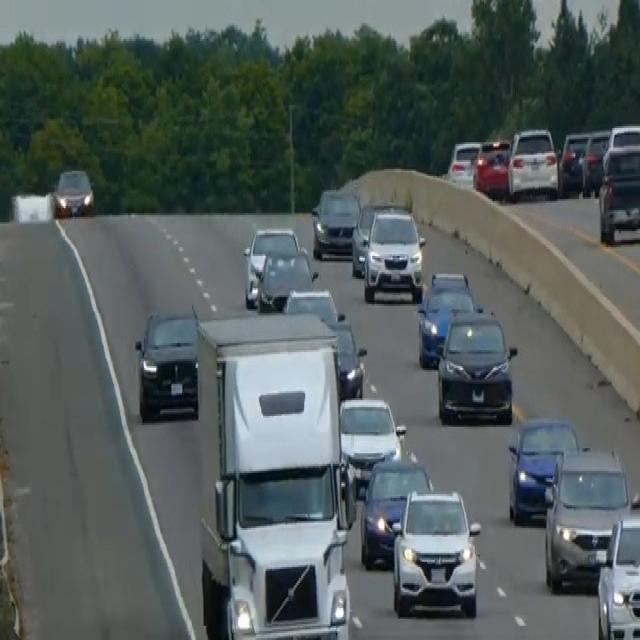car: (543, 444, 633, 592), (391, 487, 481, 619), (436, 306, 517, 425), (359, 450, 433, 569), (506, 412, 579, 524), (134, 306, 199, 421), (338, 393, 406, 496), (362, 205, 425, 302), (416, 268, 476, 368), (596, 512, 639, 638), (242, 224, 299, 304), (597, 142, 639, 244), (255, 245, 318, 311), (351, 199, 404, 277), (507, 124, 559, 201), (311, 185, 361, 259), (326, 316, 367, 396), (472, 137, 510, 199), (284, 286, 341, 324), (53, 165, 94, 217), (558, 130, 590, 194), (350, 201, 377, 275), (581, 128, 610, 196), (447, 137, 483, 187), (606, 123, 639, 151)
lorry: (193, 310, 357, 638)
